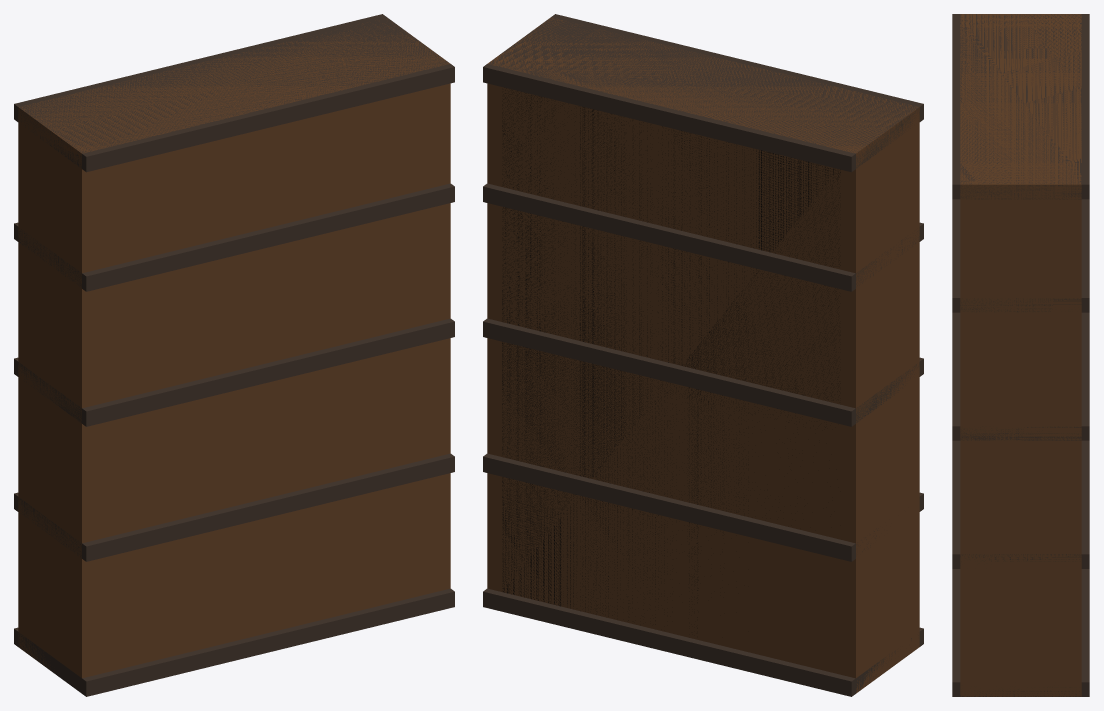
Rendered from living_shelf_unit.glb.
3 views of the same model, side by side, from view 1: azimuth 30°, elevation 25°; view 2: azimuth 150°, elevation 25°; view 3: azimuth 270°, elevation 25° (orthographic). The views are drawn at different scales.
Parts seen in each view (by area): view 1: sw5e_int_living_shelf_unit; view 2: sw5e_int_living_shelf_unit; view 3: sw5e_int_living_shelf_unit.
Part boxes in pixels (bbox=[...]): sw5e_int_living_shelf_unit: bbox=[14, 14, 454, 696]; sw5e_int_living_shelf_unit: bbox=[483, 14, 923, 696]; sw5e_int_living_shelf_unit: bbox=[952, 14, 1089, 696].
Bounding box in the file's own units: 1 × 1.4 × 0.34.
